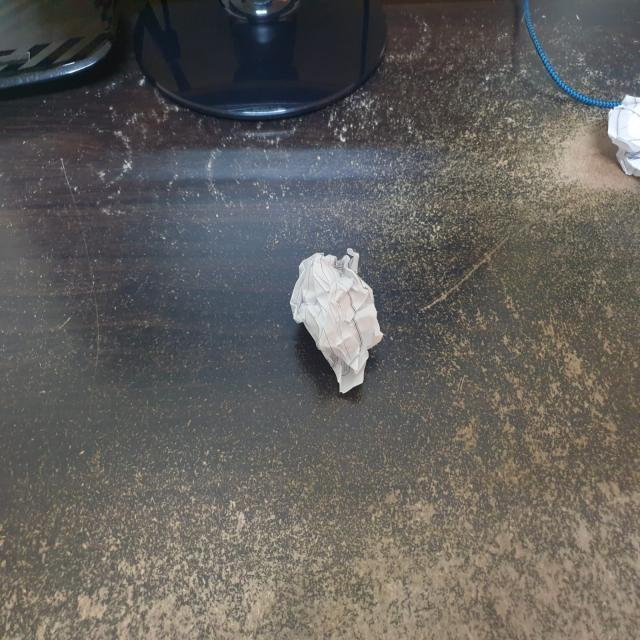Paper: (293, 249, 383, 390)
